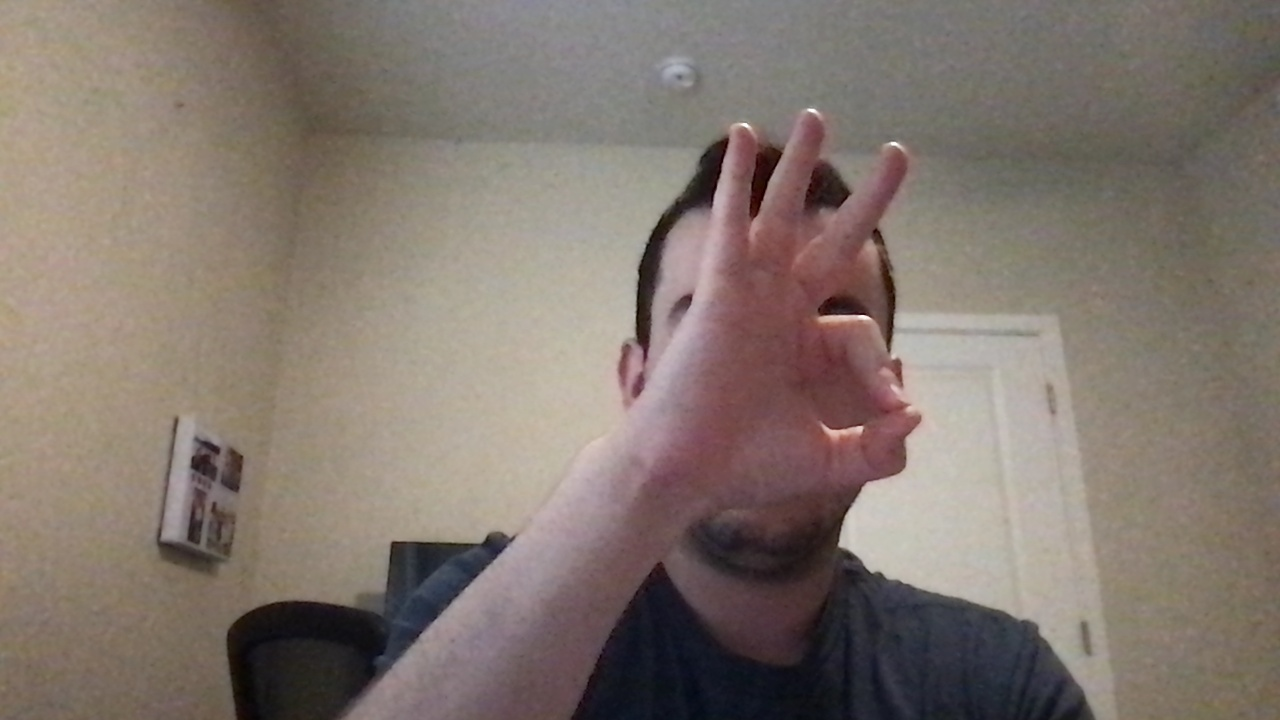f: (674, 93, 931, 537)
